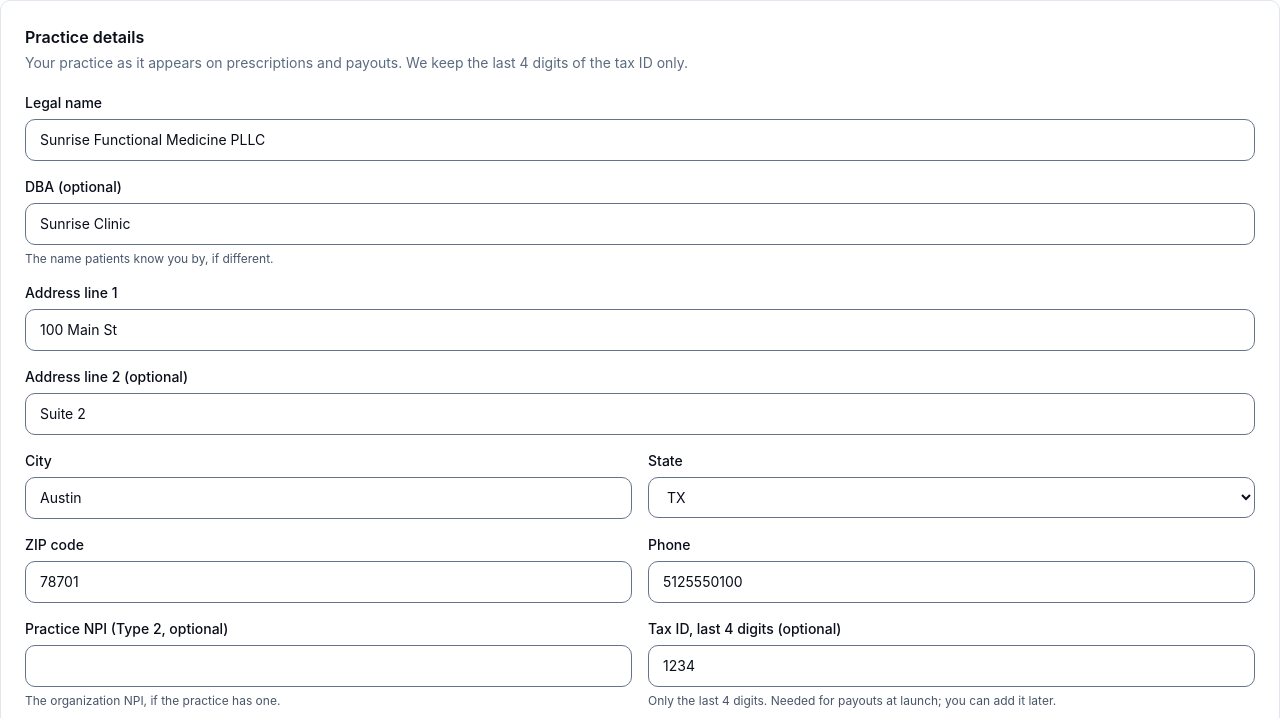
Test: the clinic admin saves with the wizard's API and body (no shipping choice)
Step 1. Replace the text in the field labelled "City" with "Round Rock" → (328, 498), box [25,477,632,519]
(page scrolled)
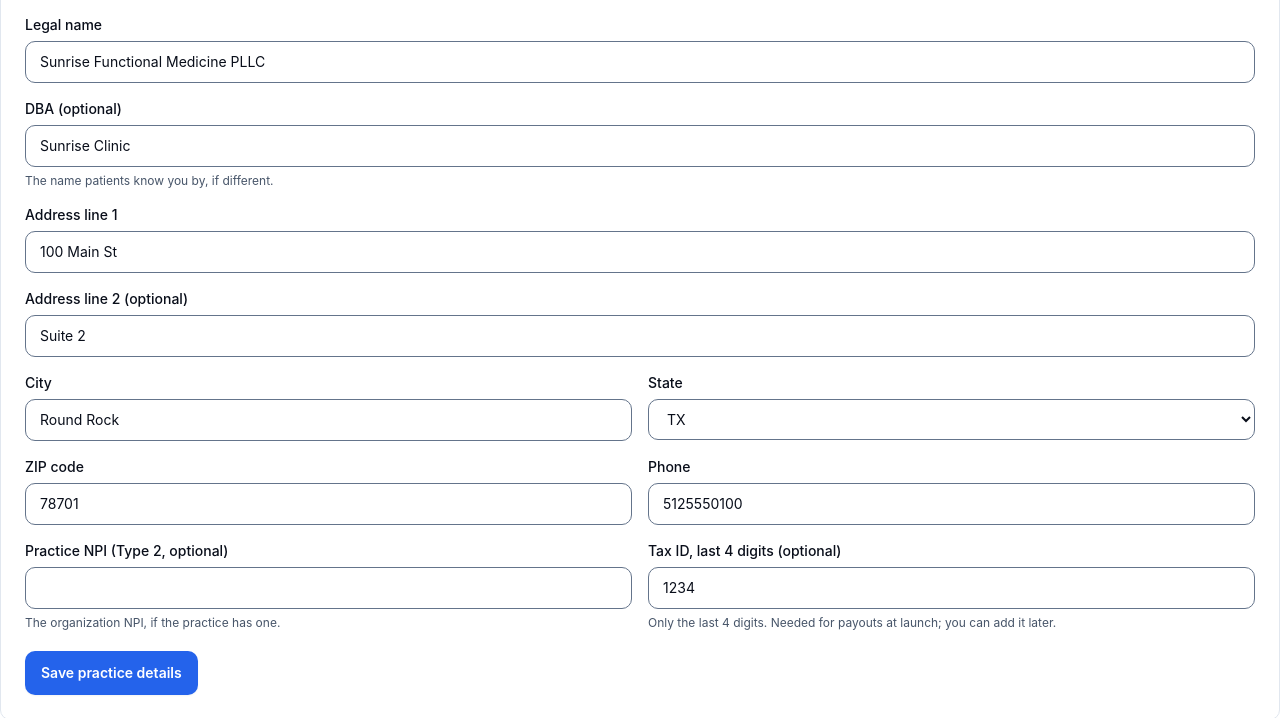
Step 2. Click the button "Save practice details" → (111, 673), box [25,651,198,695]
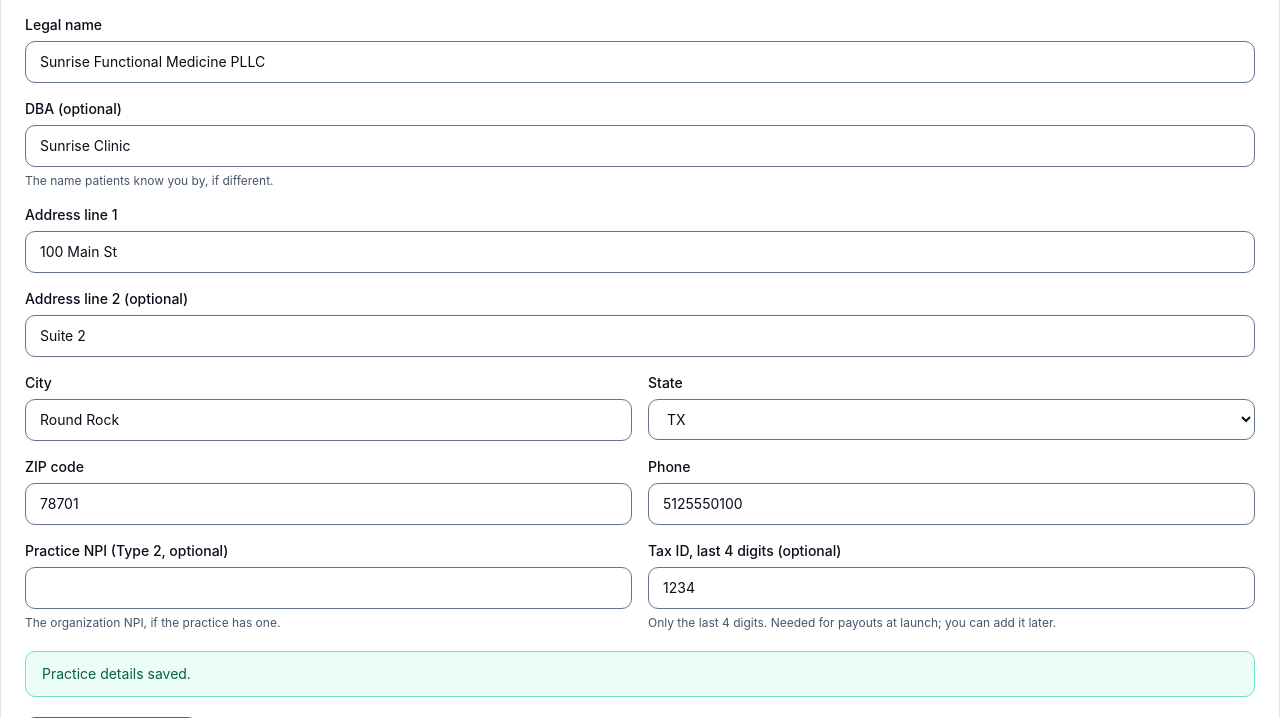
Expected: the message reads "Practice details saved.", [42,665,191,682]
